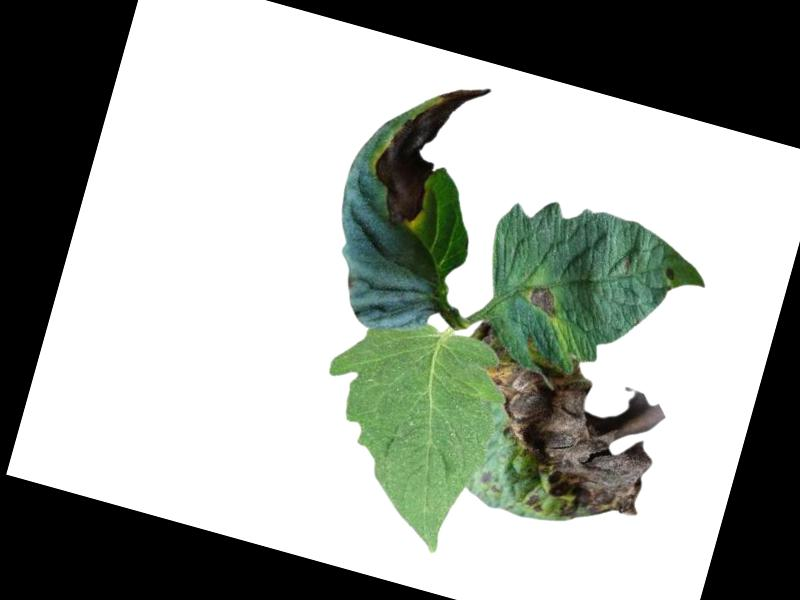Early_blight: (456, 340, 673, 537), (358, 62, 492, 240), (525, 282, 560, 320), (470, 319, 502, 353), (661, 266, 676, 282)
healthy: (286, 302, 515, 562)
